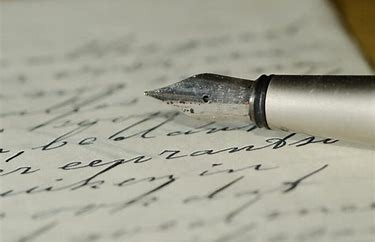pen: (141, 65, 375, 145)
